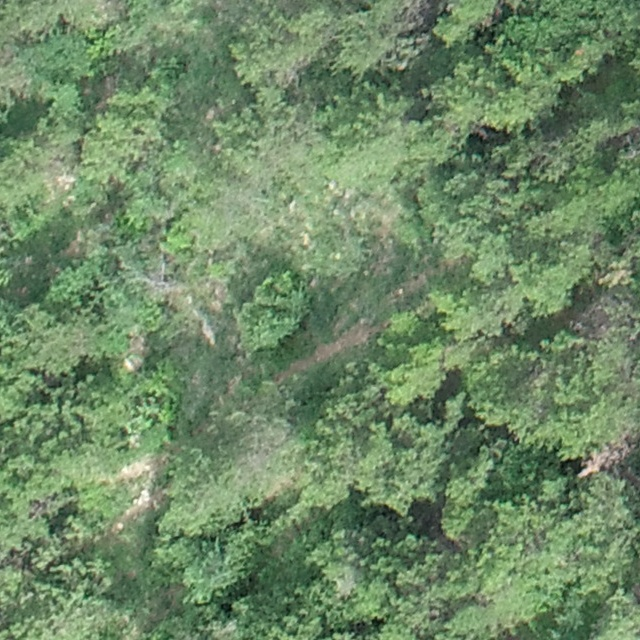unhealthy: (575, 429, 637, 478), (126, 259, 171, 290), (398, 0, 438, 30)
